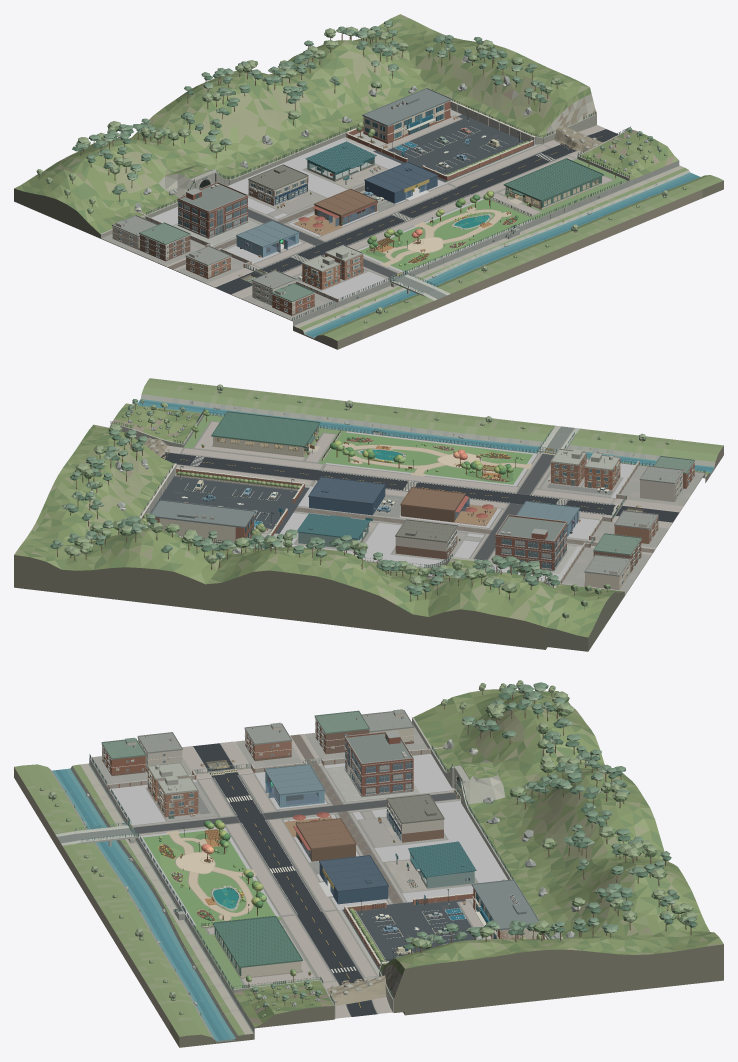
File: Stage002_Neighborhood.fbx
3 views of the same model, one above another, from view 1: azimuth 30°, elevation 25°; view 2: azimuth 150°, elevation 25°; view 3: azimuth 270°, elevation 25° (orthographic). The views are drawn at different scales.
Parts seen in each view (by area): view 1: NorthMountain_Terrain, SouthCreek_Banks, BossArena_Ground_and_Road_Extension, Park_Ground, City_Base_Ground, WestBoundary_North_Hill_Join, SouthCreek_Water, NorthMountain_Trees_NorthMiddle, Road_Street_A, NorthMountain_Trees_Northwest, Bookstore_Roof, NorthMountain_Trees_Northeast (+33 smaller); view 2: NorthMountain_Terrain, SouthCreek_Banks, BossArena_Ground_and_Road_Extension, Park_Ground, City_Base_Ground, WestBoundary_North_Hill_Join, NorthMountain_Trees_Northwest, NorthMountain_Trees_Northeast, Bookstore_Roof, Road_Street_A, WestBoundary_Residential_Ground, NorthMountain_Trees_EastFlank (+43 smaller); view 3: NorthMountain_Terrain, SouthCreek_Banks, BossArena_Ground_and_Road_Extension, City_Base_Ground, Park_Ground, SouthCreek_Water, Road_Street_A, NorthMountain_Trees_Northeast, NorthMountain_Trees_NorthMiddle, NorthMountain_Trees_Northwest, Bookstore_Roof, EastBoundary_South_Slope (+49 smaller).
Boxes of the visible parts, bbox=[...] form: NorthMountain_Terrain: bbox=[43, 14, 589, 219]; SouthCreek_Banks: bbox=[318, 169, 702, 338]; BossArena_Ground_and_Road_Extension: bbox=[343, 109, 576, 198]; Park_Ground: bbox=[359, 199, 532, 271]; City_Base_Ground: bbox=[151, 138, 532, 301]; WestBoundary_North_Hill_Join: bbox=[14, 169, 123, 238]; SouthCreek_Water: bbox=[329, 181, 678, 326]; NorthMountain_Trees_NorthMiddle: bbox=[181, 60, 308, 158]; Road_Street_A: bbox=[261, 187, 471, 272]; NorthMountain_Trees_Northwest: bbox=[72, 118, 190, 201]; Bookstore_Roof: bbox=[503, 158, 604, 207]; NorthMountain_Trees_Northeast: bbox=[278, 20, 408, 93]; NorthMountain_Terrain: bbox=[14, 424, 581, 649]; SouthCreek_Banks: bbox=[166, 382, 686, 465]; BossArena_Ground_and_Road_Extension: bbox=[148, 447, 324, 539]; Park_Ground: bbox=[324, 432, 532, 484]; City_Base_Ground: bbox=[271, 431, 635, 581]; WestBoundary_North_Hill_Join: bbox=[545, 587, 624, 651]; NorthMountain_Trees_Northwest: bbox=[403, 555, 560, 601]; NorthMountain_Trees_Northeast: bbox=[50, 513, 236, 569]; Bookstore_Roof: bbox=[211, 411, 320, 447]; Road_Street_A: bbox=[314, 470, 611, 514]; WestBoundary_Residential_Ground: bbox=[562, 465, 704, 594]; NorthMountain_Trees_EastFlank: bbox=[62, 423, 148, 526]; NorthMountain_Terrain: bbox=[382, 694, 723, 1015]; SouthCreek_Banks: bbox=[24, 775, 245, 1031]; BossArena_Ground_and_Road_Extension: bbox=[280, 898, 491, 982]; City_Base_Ground: bbox=[109, 754, 507, 925]; Park_Ground: bbox=[142, 829, 275, 926]; SouthCreek_Water: bbox=[63, 786, 226, 1025]; Road_Street_A: bbox=[212, 775, 322, 914]; NorthMountain_Trees_Northeast: bbox=[572, 828, 697, 934]; NorthMountain_Trees_NorthMiddle: bbox=[509, 749, 629, 858]; NorthMountain_Trees_Northwest: bbox=[462, 682, 599, 776]; Bookstore_Roof: bbox=[212, 916, 302, 975]; EastBoundary_South_Slope: bbox=[233, 980, 334, 1028].
Size of the model in its own units: 255 by 30.95 by 232.
